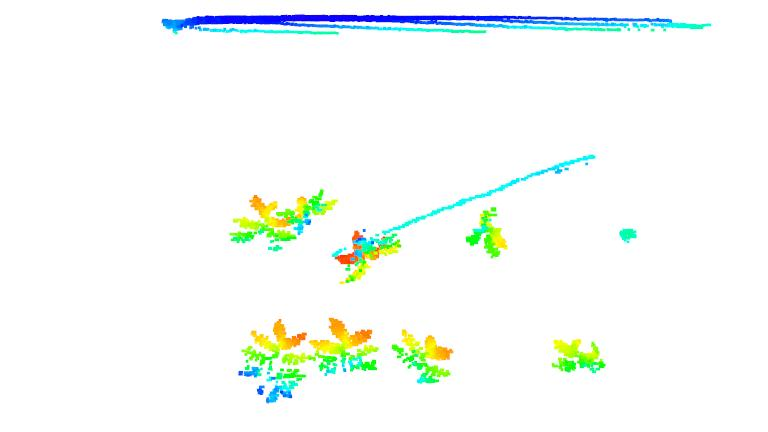chickpea: (225, 188, 337, 258), (236, 318, 312, 404), (310, 317, 379, 374), (334, 229, 404, 283), (392, 327, 454, 386), (463, 205, 509, 260), (551, 337, 606, 376)
